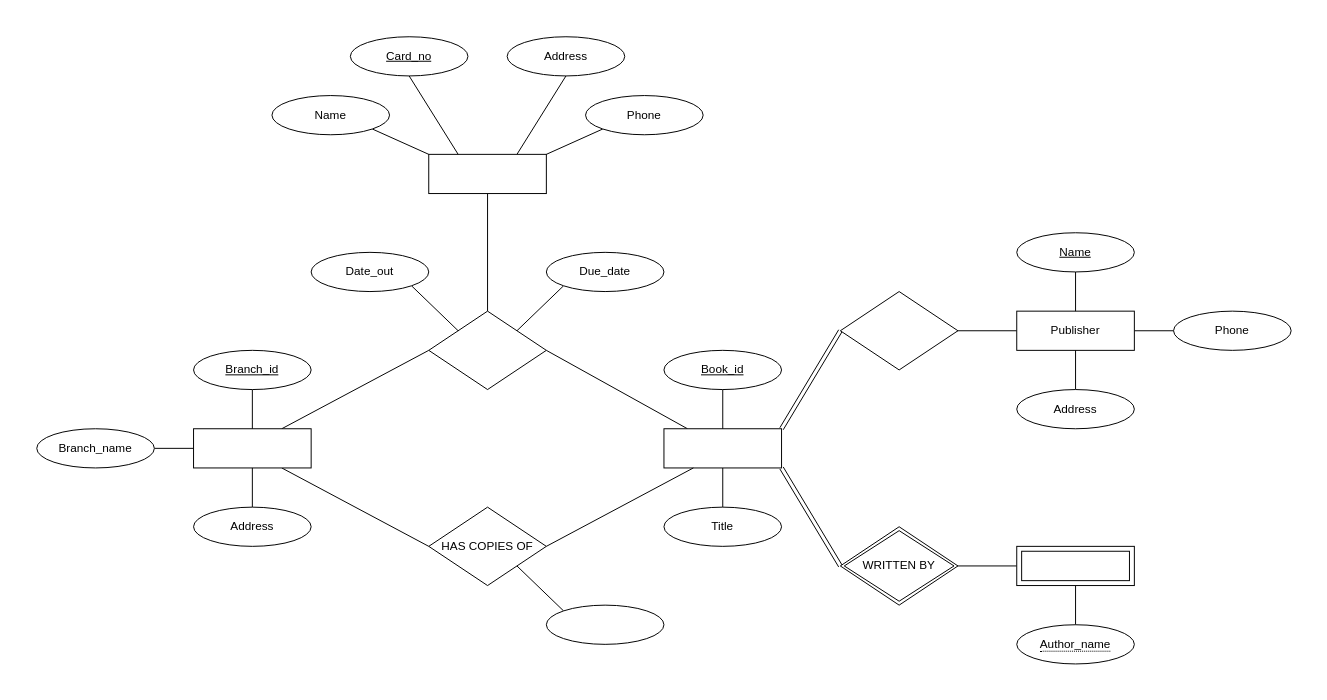
The diagram is 1327 pixels wide and 700 high, and some of its shapes have lost their labels. The centre of each missing label's shape, as x and y in pixels:
Author: point 1075,565
Book: point 722,448
Borrower: point 487,173
Library_Branch: point 252,448
LOANS: point 487,350
No_of_copies: point 604,624
PUBLISHED BY: point 898,330
